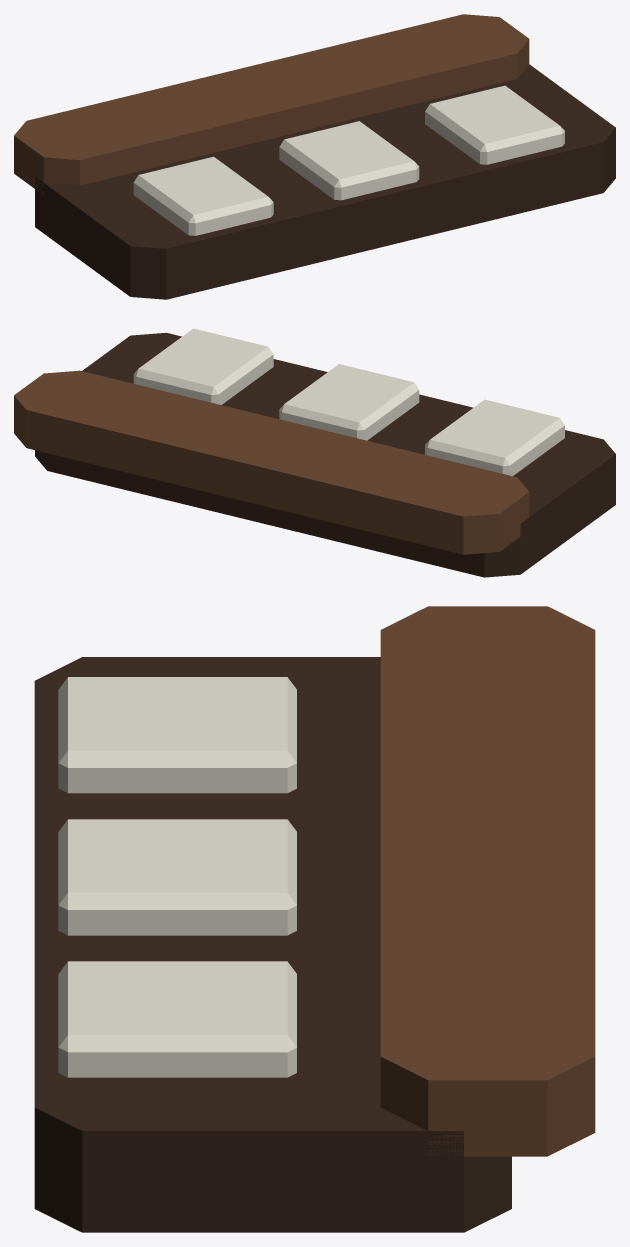
The model's file is wallet_open.glb.
3 renders of one model, top to bottom at view 1: azimuth 30°, elevation 25°; view 2: azimuth 150°, elevation 25°; view 3: azimuth 270°, elevation 25°, orthographic. The views are drawn at different scales.
Parts seen in each view (by area): view 1: Cartera, Solapa, Tarjeta.001, Tarjeta, Tarjeta.002; view 2: Solapa, Cartera, Tarjeta.002, Tarjeta.001, Tarjeta; view 3: Cartera, Solapa, Tarjeta.001, Tarjeta.002, Tarjeta.
Part boxes in pixels (<box>): Cartera: <box>35,64,615,299</box>; Solapa: <box>14,14,529,194</box>; Tarjeta.001: <box>279,121,419,200</box>; Tarjeta: <box>133,156,273,235</box>; Tarjeta.002: <box>425,85,564,164</box>; Solapa: <box>14,370,529,554</box>; Cartera: <box>35,332,615,577</box>; Tarjeta.002: <box>133,328,273,404</box>; Tarjeta.001: <box>279,364,419,440</box>; Tarjeta: <box>425,399,564,476</box>; Cartera: <box>34,657,511,1232</box>; Solapa: <box>380,606,595,1156</box>; Tarjeta.001: <box>58,819,296,935</box>; Tarjeta.002: <box>58,961,296,1077</box>; Tarjeta: <box>58,677,296,793</box>.
Size of the model in its own units: 0.2 by 0.03 by 0.1.
